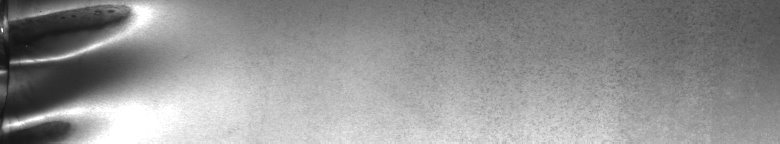ke: (4, 4, 130, 136)
